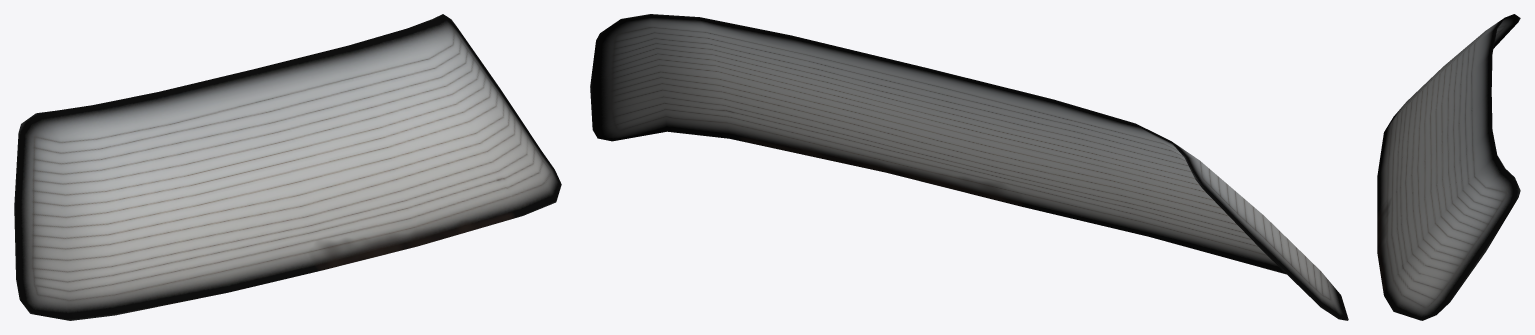
The model's file is SampleCar_01_Glass_R.fbx.
3 views of the same model, side by side, from view 1: azimuth 30°, elevation 25°; view 2: azimuth 150°, elevation 25°; view 3: azimuth 270°, elevation 25° (orthographic). The views are drawn at different scales.
Parts seen in each view (by area): view 1: glass_LOD0; view 2: glass_LOD0; view 3: glass_LOD0.
Boxes of the visible parts, box(x1,y1,x2,y2) form: glass_LOD0: box(14, 14, 561, 320); glass_LOD0: box(590, 14, 1348, 320); glass_LOD0: box(1377, 14, 1520, 320).
Size of the model in its own units: 133 by 35.87 by 37.65.
